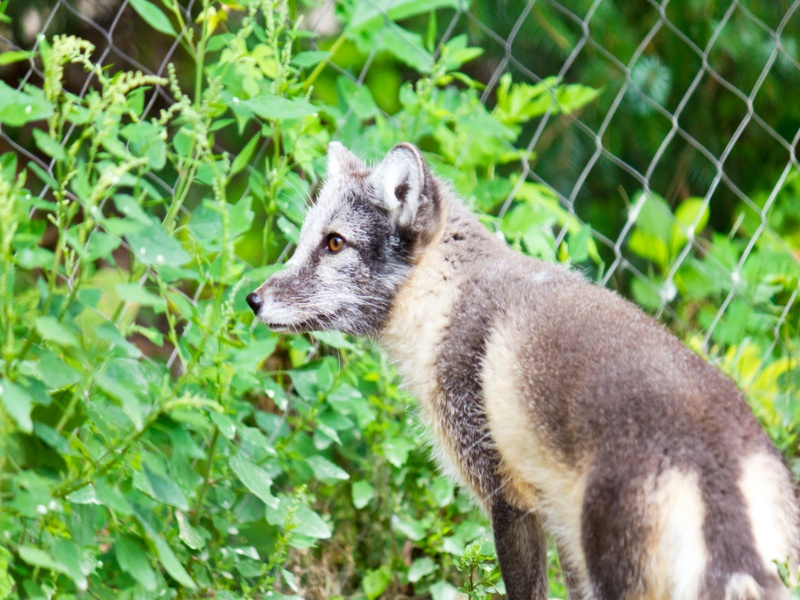fox: (239, 137, 798, 600)
